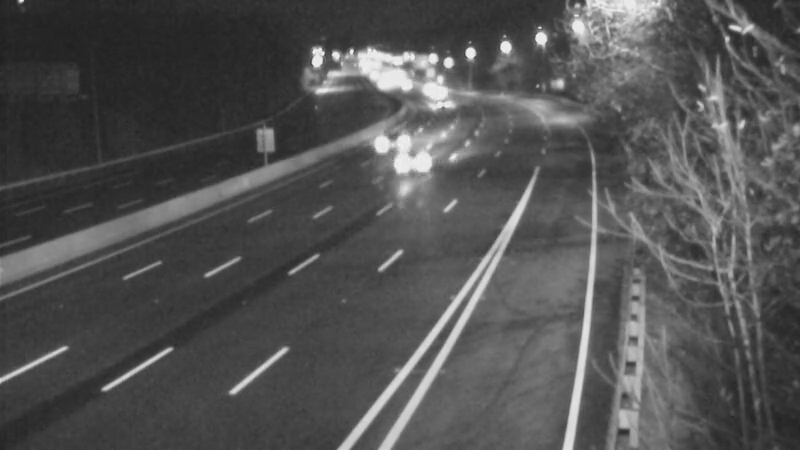vehicle: (372, 125, 452, 205), (397, 61, 447, 111), (417, 66, 467, 116), (414, 83, 464, 133), (361, 113, 411, 163)
